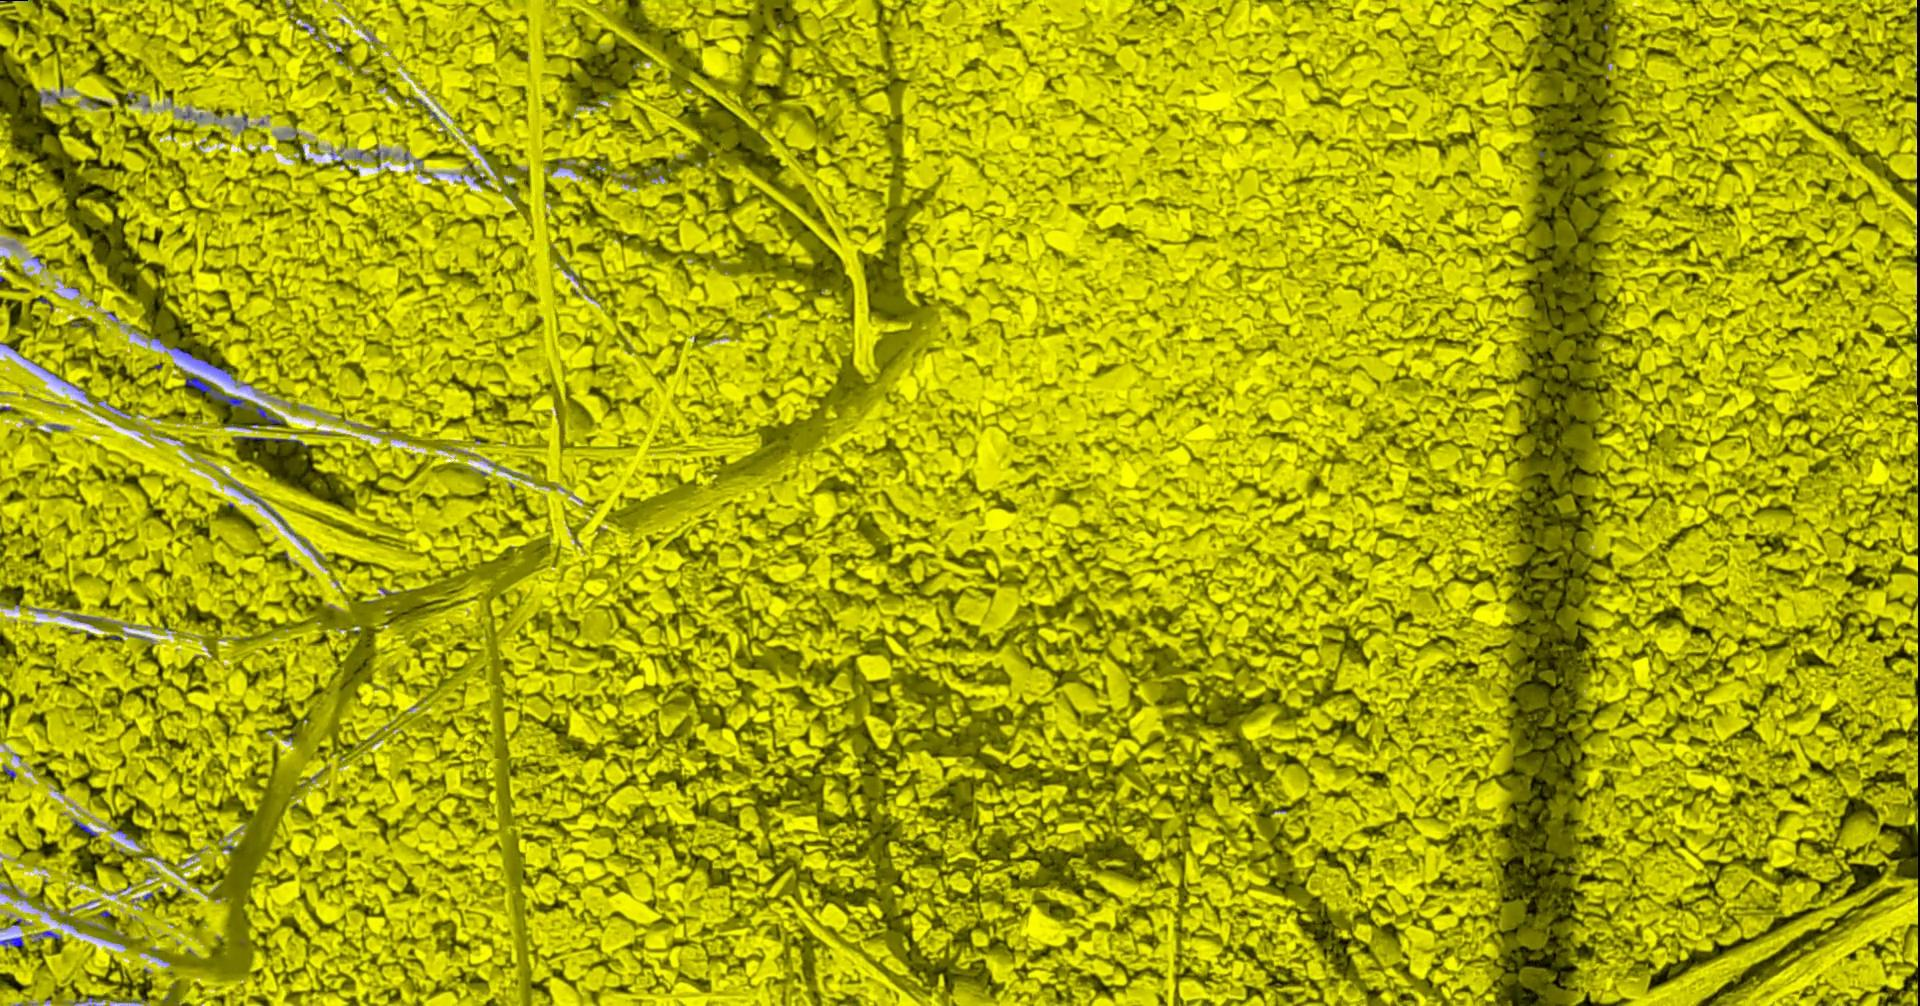ant: (187, 376, 248, 408), (255, 405, 284, 426), (1, 936, 25, 948)
